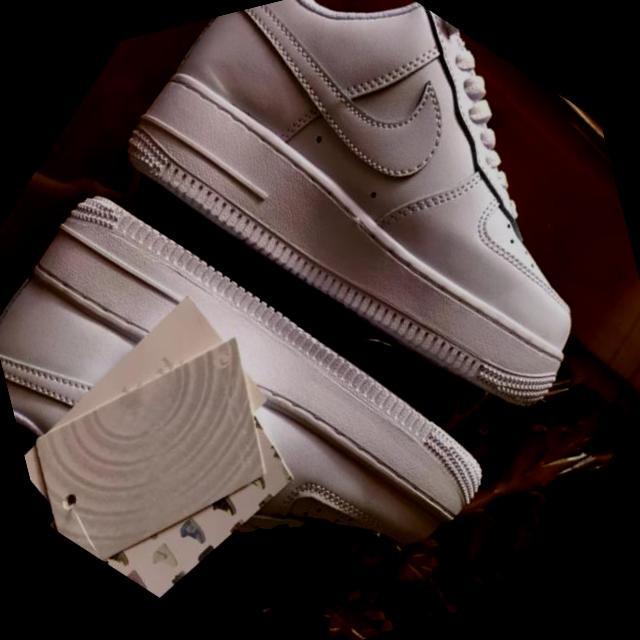nike_fake_airforce: (83, 0, 640, 514)
